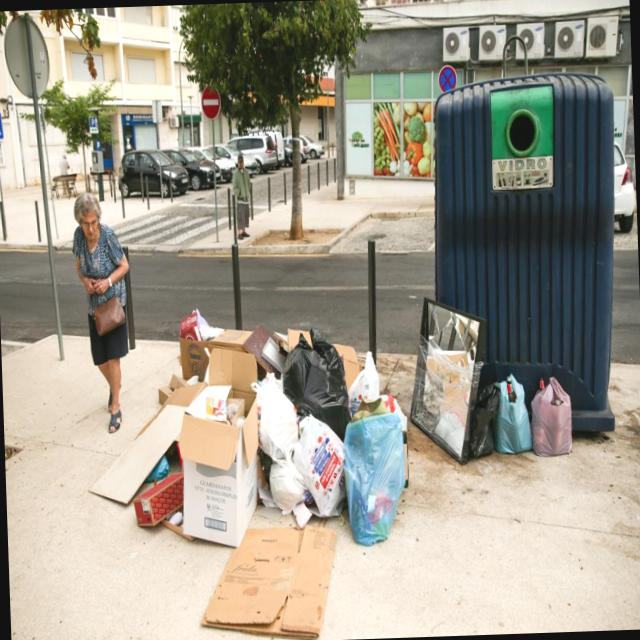garbage: (125, 299, 607, 640)
